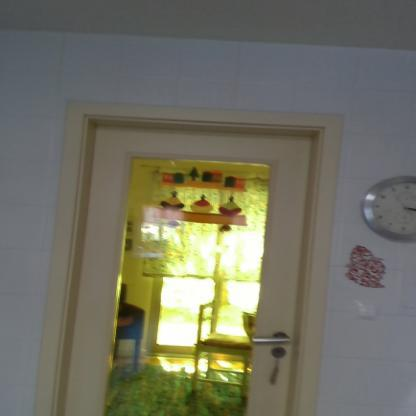door: (81, 116, 301, 416)
lever: (244, 334, 292, 346)
